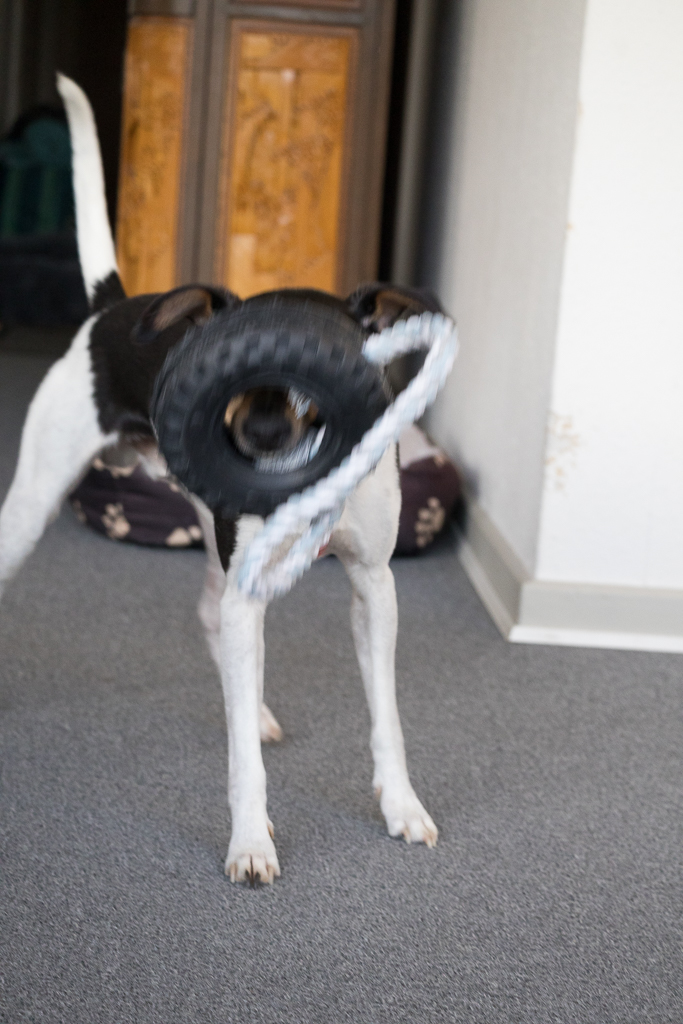Dog: (0, 65, 464, 905)
